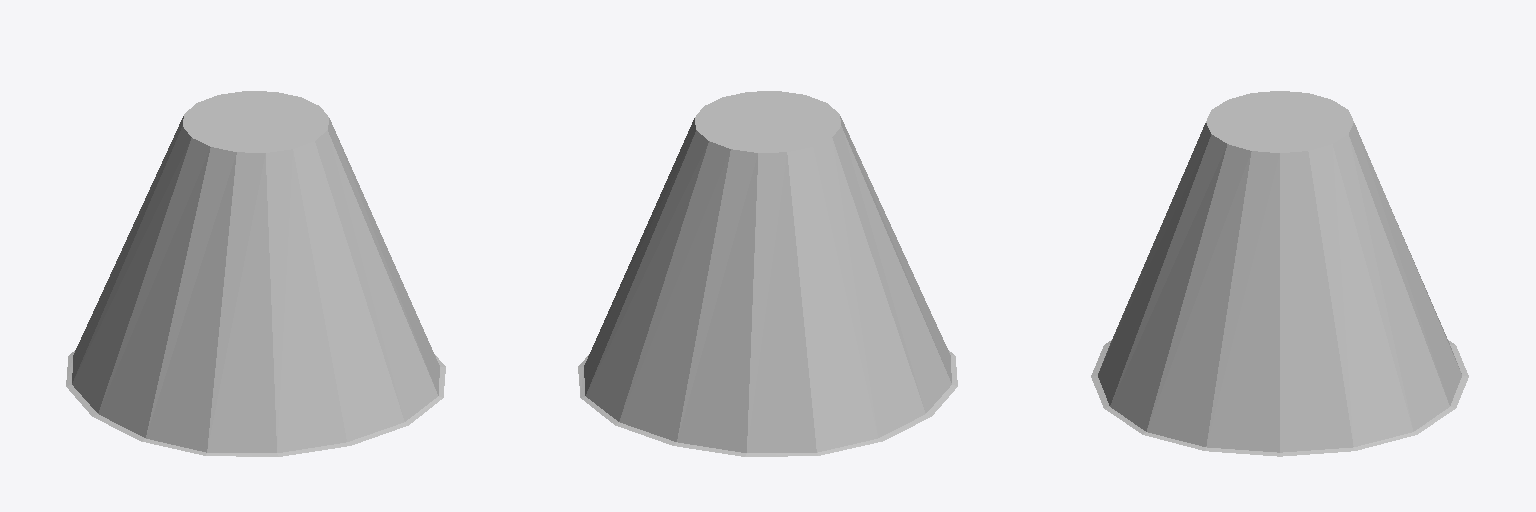
The model's file is MountainSilouhette.obj.
3 renders of one model, left to right at view 1: azimuth 30°, elevation 25°; view 2: azimuth 150°, elevation 25°; view 3: azimuth 270°, elevation 25°, orthographic.
Parts seen in each view (by area): view 1: Cube; view 2: Cube; view 3: Cube.
Part boxes in pixels (x1,y1,x2,y2): Cube: (66,91,445,456); Cube: (578,91,957,456); Cube: (1091,91,1468,456).
Size of the model in its own units: 53.98 by 42.21 by 53.98.